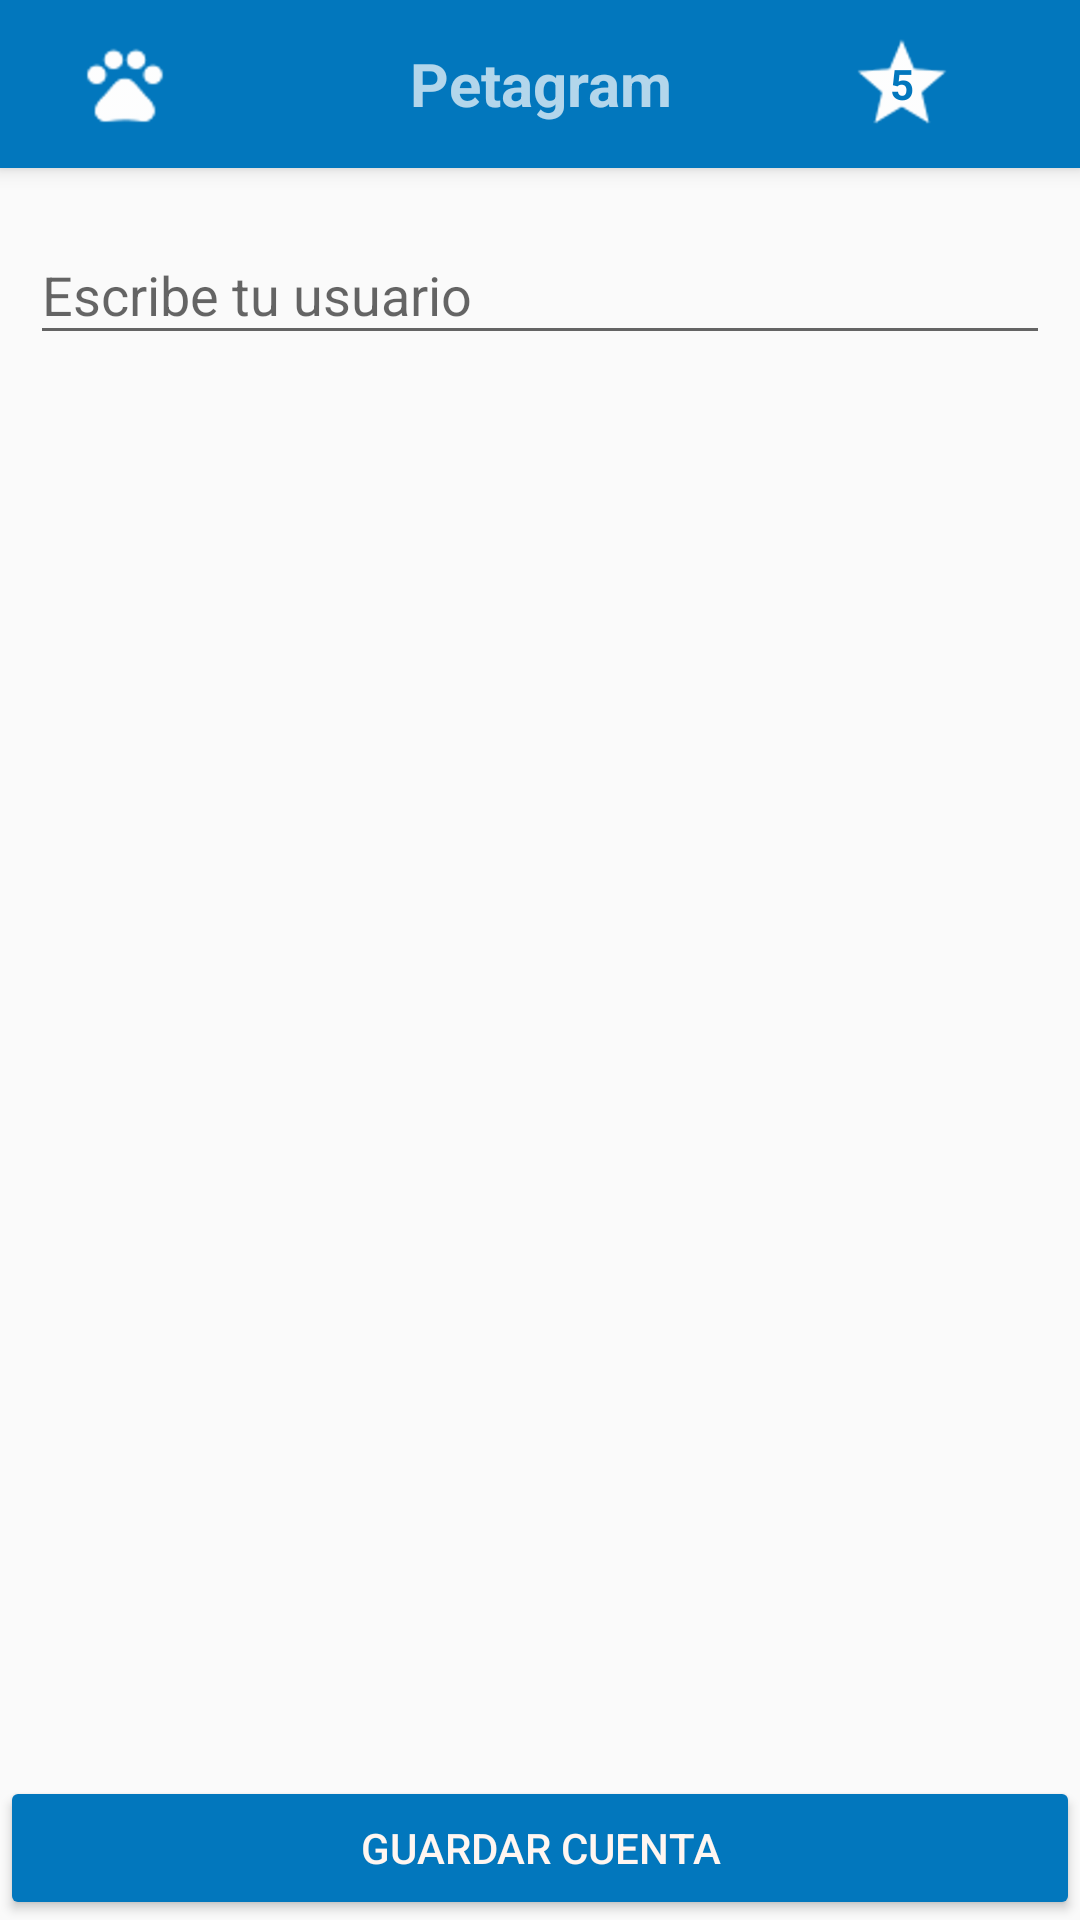

Where icons sit on this 1080×1920 app screen, as (x1, y1, x2, y2):
pet: (87, 49, 163, 122)
star: (858, 40, 946, 124)
